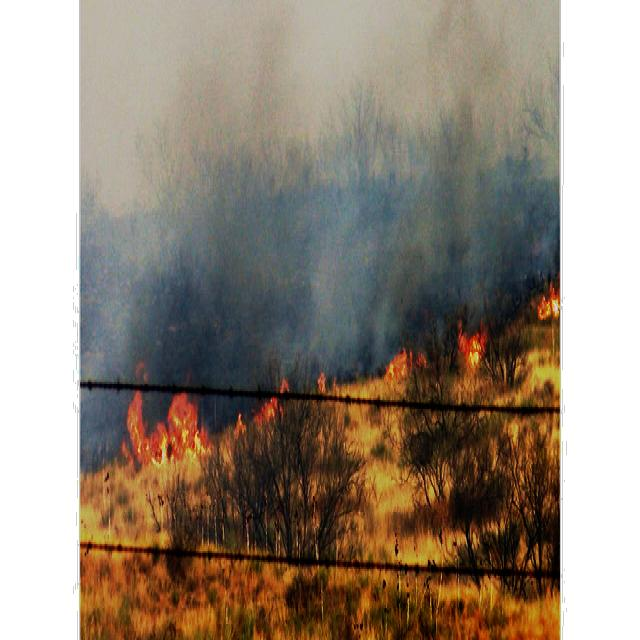api: (123, 382, 210, 473), (260, 371, 291, 429), (461, 318, 488, 368), (385, 341, 414, 384), (536, 287, 561, 323), (232, 407, 248, 440)
asap: (105, 1, 559, 395)
